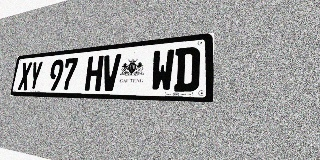7: (60, 58, 78, 91)
9: (48, 59, 65, 91)
D: (174, 46, 200, 92)
H: (84, 55, 104, 91)
V: (101, 54, 121, 91)
W: (150, 49, 175, 92)
X: (17, 62, 32, 90)
Y: (28, 61, 43, 90)
